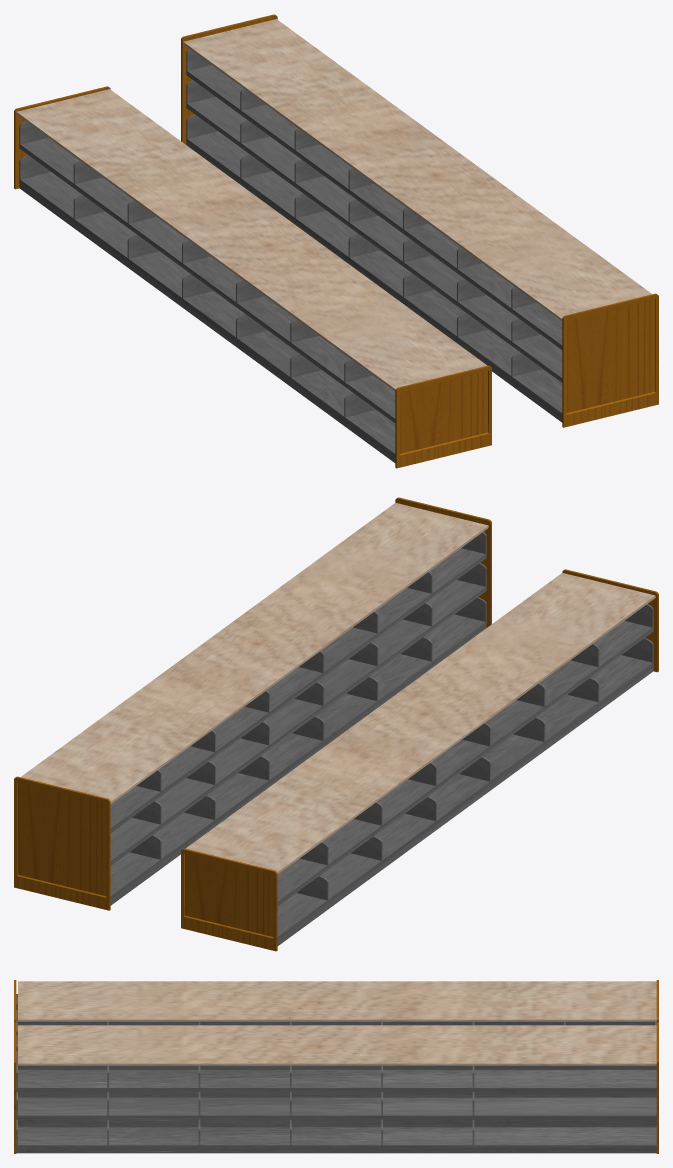
The model's file is Library.glb.
3 renders of one model, top to bottom at view 1: azimuth 30°, elevation 25°; view 2: azimuth 150°, elevation 25°; view 3: azimuth 270°, elevation 25°, orthographic. The views are drawn at different scales.
Visible parts, largest first — view 1: Cube.094, Cube.099, Cube.056, Cube.134, Cube.101, Cube.136, Cube.096, Cube.097, Cube.092, Cube.100, Cube.093; view 2: Cube.094, Cube.099, Cube.056, Cube.134, Cube.100, Cube.136, Cube.096, Cube.097, Cube.093, Cube.101, Cube.092; view 3: Cube.094, Cube.099, Cube.134, Cube.136, Cube.097, Cube.098, Cube.137, Cube.075, Cube.118, Cube.100, Cube.101.
Part boxes in pixels (box(x1,y1,x2,y2)): Cube.094: box(16, 89, 486, 390); Cube.099: box(183, 19, 651, 321); Cube.056: box(19, 172, 395, 462); Cube.134: box(186, 131, 562, 422); Cube.101: box(562, 293, 658, 427); Cube.136: box(186, 97, 562, 382); Cube.096: box(19, 138, 395, 423); Cube.097: box(186, 65, 562, 349); Cube.092: box(395, 365, 491, 468); Cube.100: box(181, 14, 277, 144); Cube.093: box(14, 86, 110, 189); Cube.094: box(186, 573, 655, 873); Cube.099: box(21, 503, 488, 804); Cube.056: box(277, 655, 653, 945); Cube.134: box(110, 614, 486, 905); Cube.100: box(14, 776, 110, 910); Cube.136: box(110, 580, 486, 865); Cube.096: box(277, 621, 653, 906); Cube.097: box(110, 548, 486, 832); Cube.093: box(181, 848, 277, 951); Cube.101: box(395, 497, 491, 627); Cube.092: box(562, 569, 658, 672); Cube.094: box(18, 981, 656, 1021); Cube.099: box(18, 1025, 656, 1065); Cube.134: box(16, 1127, 656, 1153); Cube.136: box(16, 1097, 656, 1119); Cube.097: box(16, 1070, 656, 1091); Cube.098: box(18, 1095, 656, 1127); Cube.137: box(16, 1046, 656, 1069); Cube.075: box(16, 1002, 654, 1025); Cube.118: box(18, 1092, 656, 1094); Cube.100: box(656, 1022, 658, 1153); Cube.101: box(14, 1022, 16, 1153).
Bounding box in the file's own units: 4.4 × 1.77 × 11.1.
Materials: 88 (88 with a texture image).
